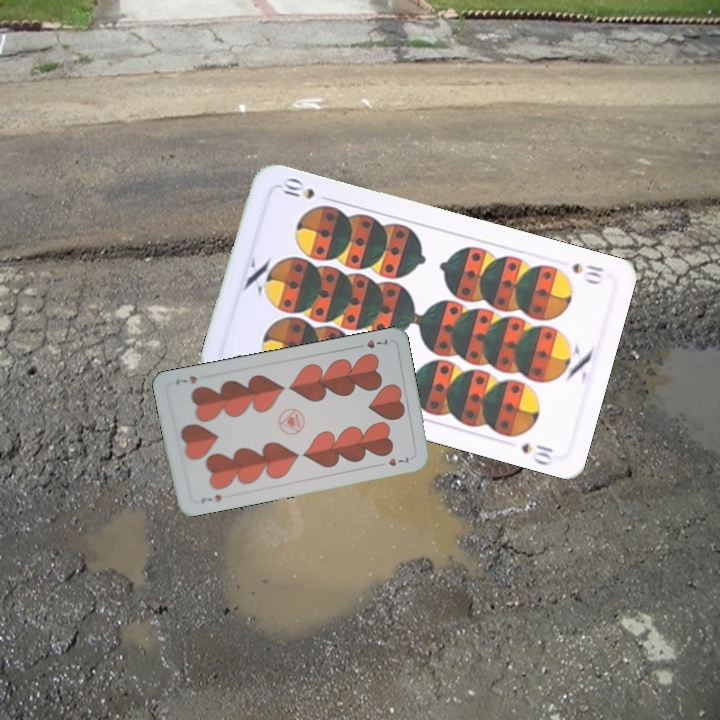H7: (352, 335, 390, 351), (197, 490, 224, 505)
S10: (568, 259, 606, 287)
